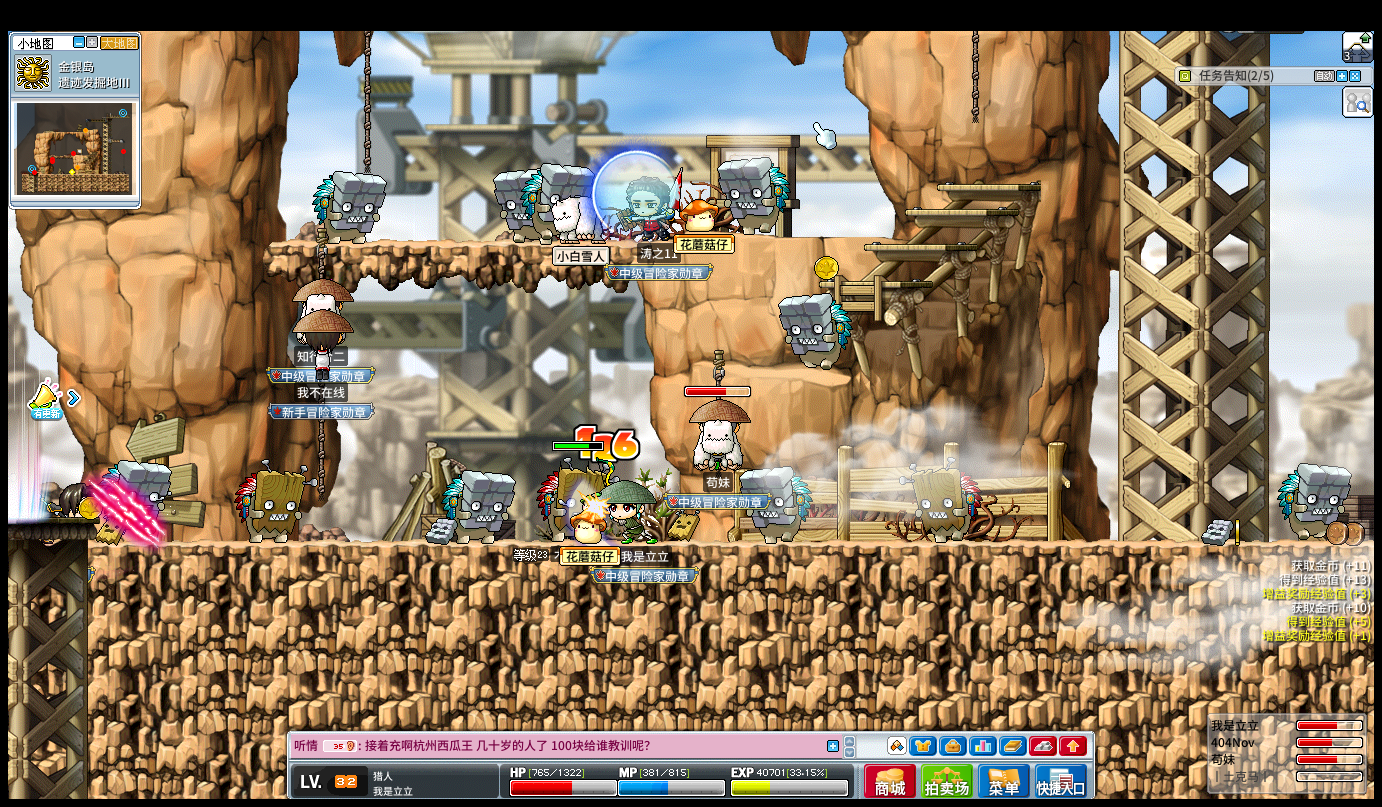floor: (265, 238, 646, 249), (741, 365, 855, 385), (734, 231, 902, 240), (900, 207, 1017, 215), (935, 184, 1041, 192), (7, 516, 96, 525), (818, 279, 932, 286), (861, 243, 975, 250)
monster: (904, 458, 981, 542), (234, 463, 312, 544), (1276, 463, 1351, 541), (100, 459, 170, 542), (777, 292, 851, 370), (312, 169, 388, 244), (444, 470, 516, 546), (717, 157, 788, 234), (743, 466, 812, 544), (520, 164, 595, 205), (493, 168, 529, 243)
rope: (361, 30, 371, 172), (970, 30, 979, 122), (315, 232, 327, 286), (314, 417, 322, 493)
